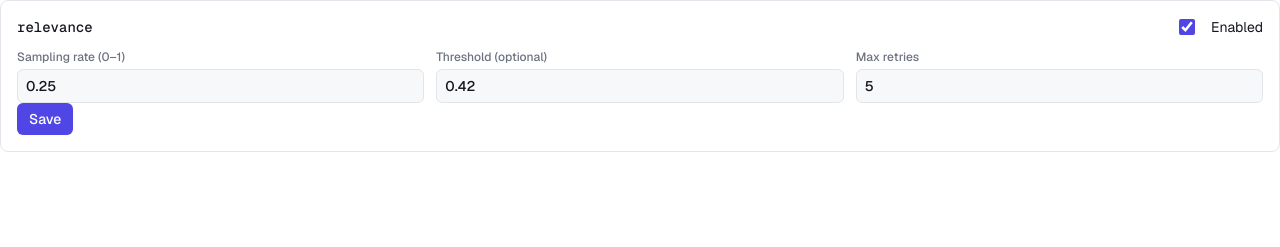
Test: EvaluatorConfigForm › shows the upstream error message and re-enables Save when the request fails
Click the button "Save" at (45, 119), box [17, 103, 73, 135]
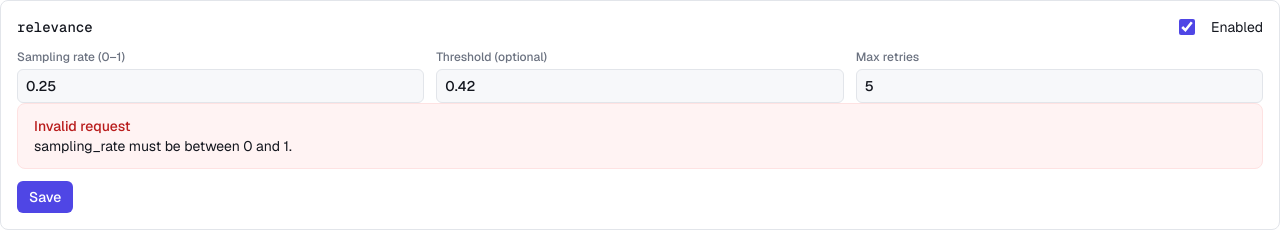
Check: the button "Save" is enabled, box [17, 181, 73, 213]
Check: the text "sampling_rate must be between 0 and 1." is shown, box [34, 136, 292, 156]
